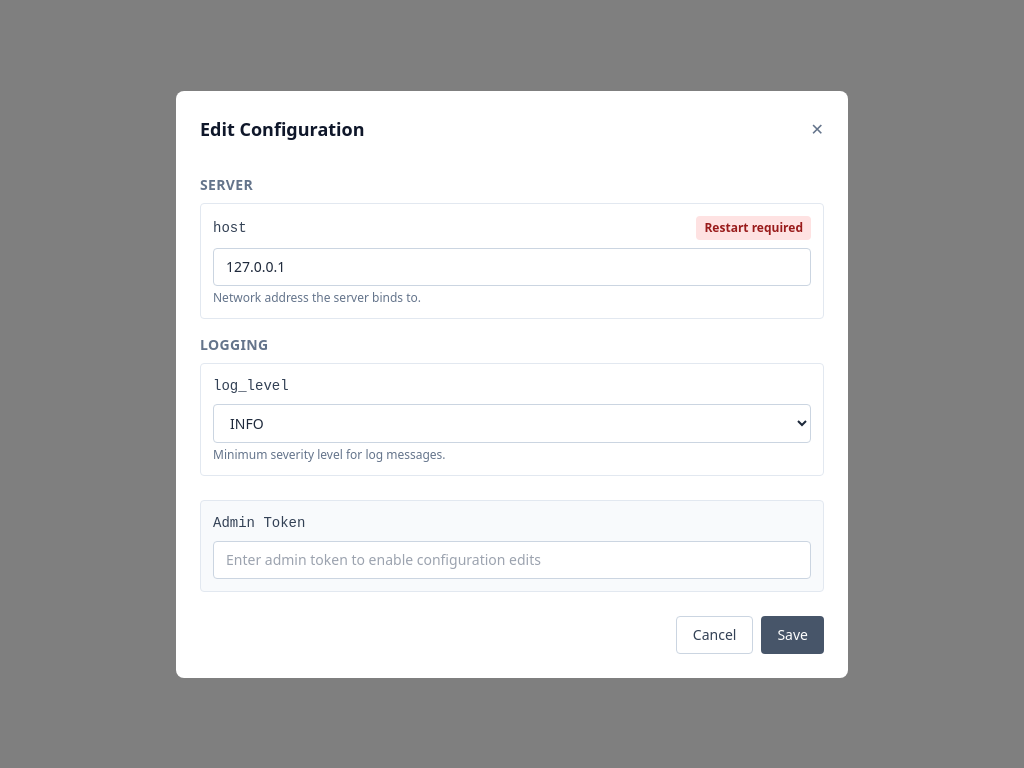
it: ConfigModal › surfaces a 403 error inline and keeps the modal open
Expected: the field showing "127.0.0.1" is shown, [213,248,811,286]
Click the button "Save" at (793, 634), box [761,616,824,654]
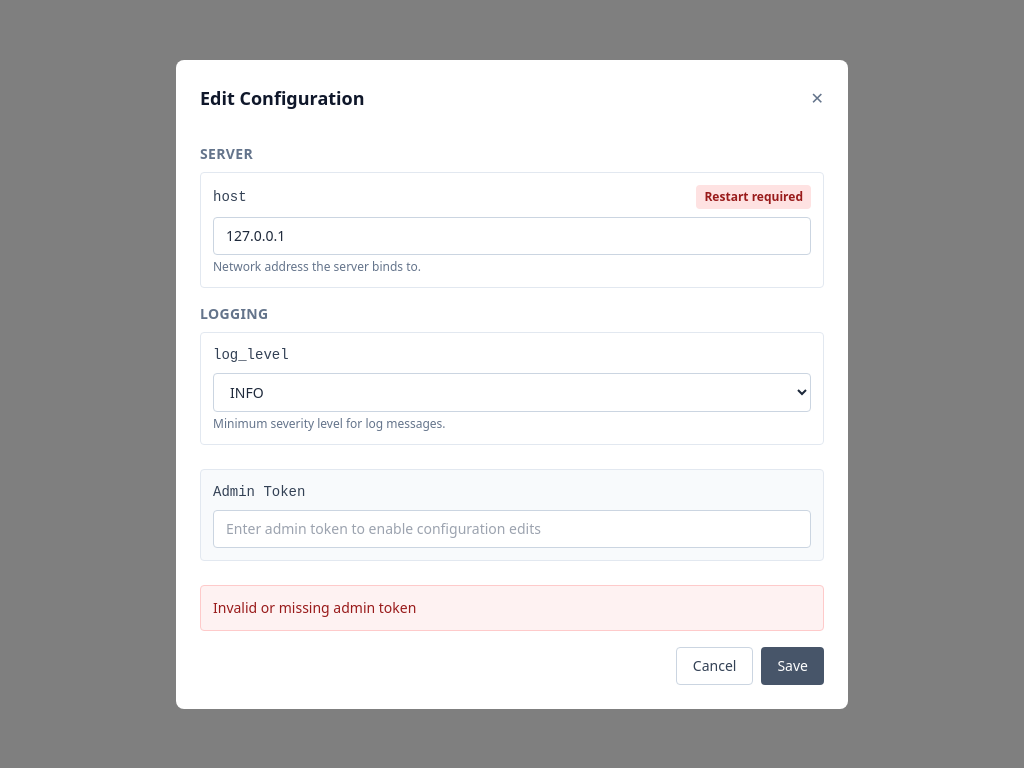
Expected: the dialog is shown, [176,60,848,708]
Now the text "Invalid or missing admin token" is shown, box [200,584,824,630]
